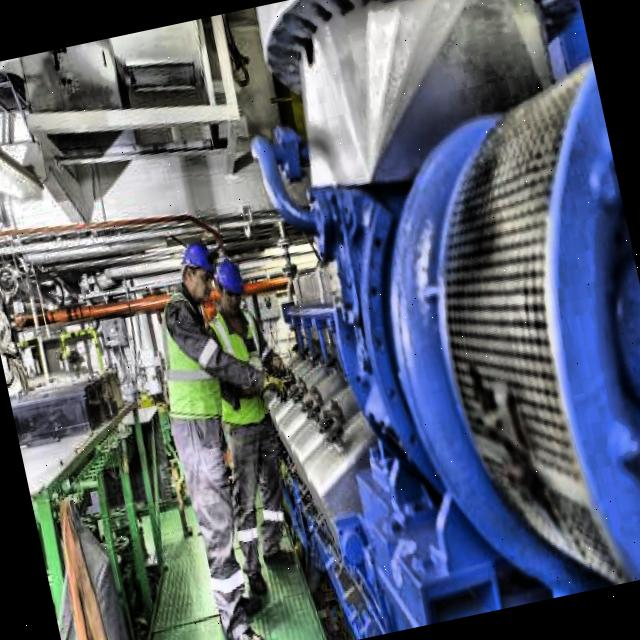helmet: (169, 228, 222, 302), (209, 256, 250, 318)
